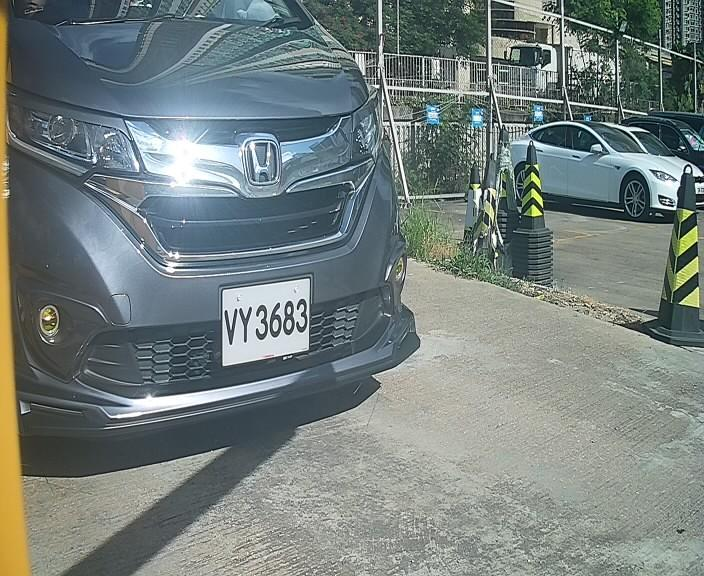License Plate: (214, 268, 321, 371)
